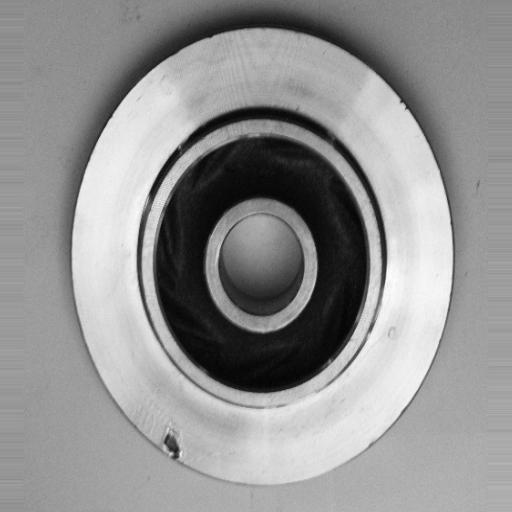crack: (154, 416, 211, 473)
unpolished_casting: (70, 21, 456, 488)
